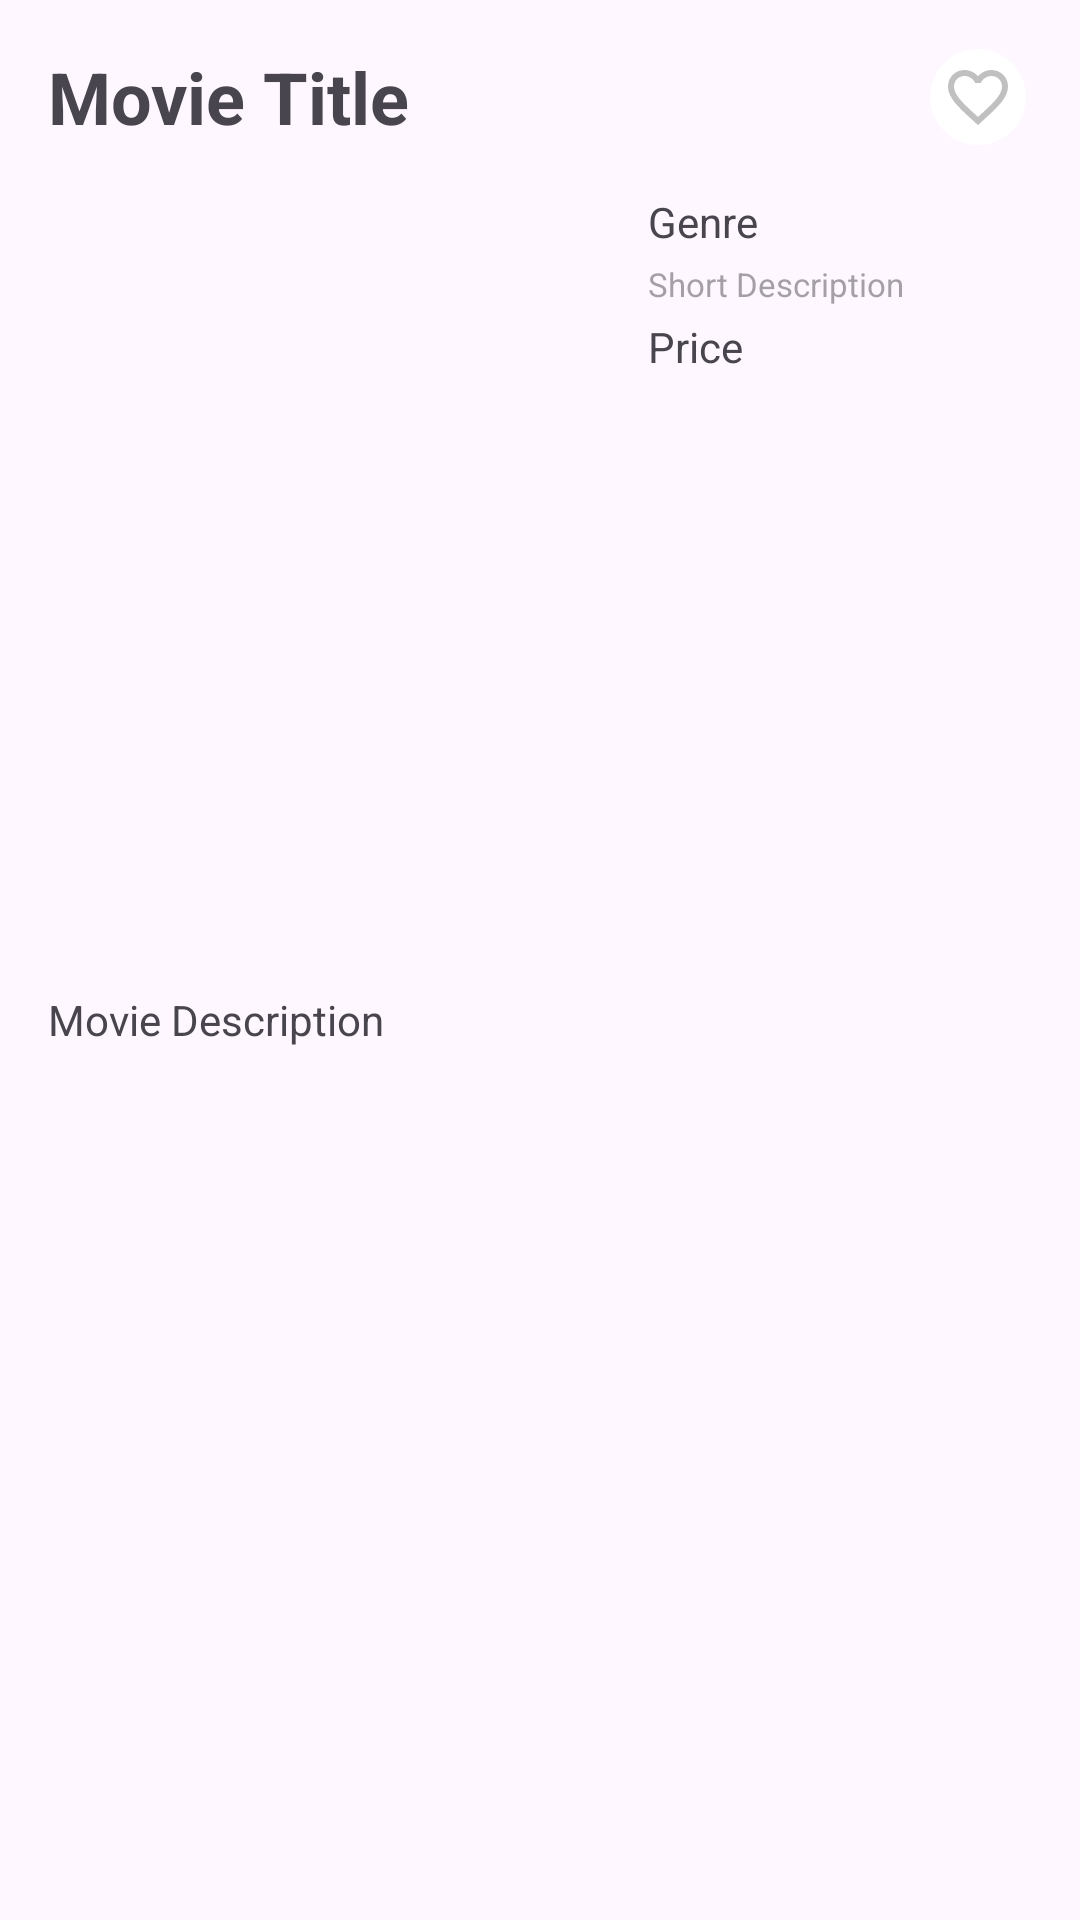

Named icons in this screenshot (1080×1920) and their bounding boxes, (x1, y1, x2, y2):
Favorite Icon: (948, 70, 1008, 125)
